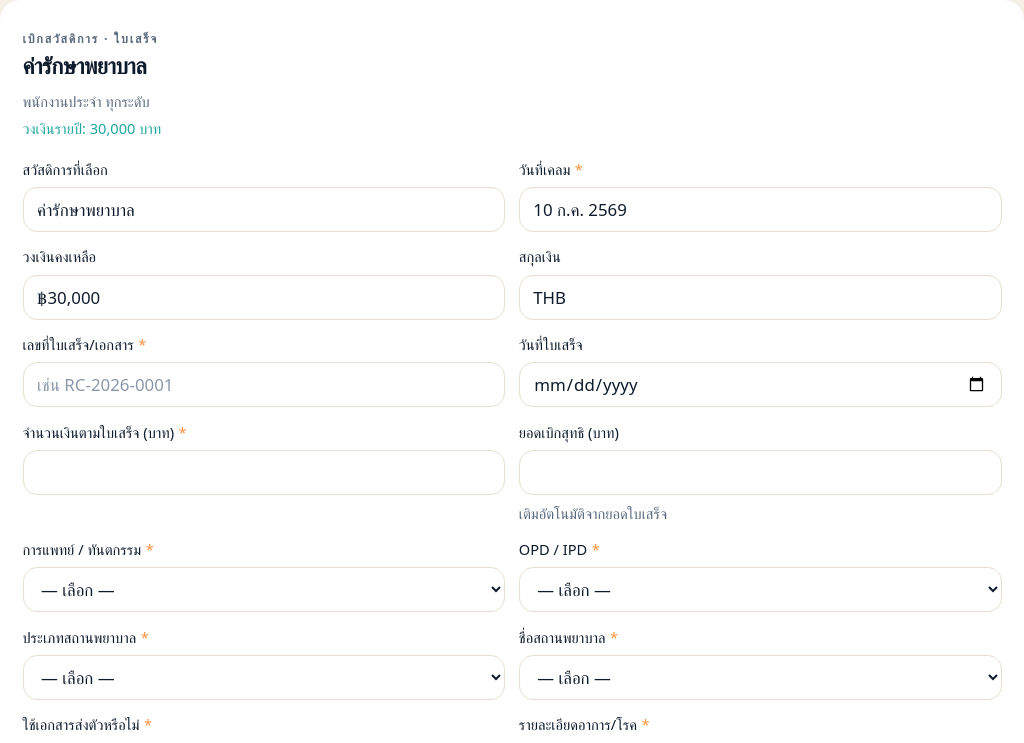
Test: STA-184 — bilingual Hospital Name LOV › reveals the Others free-text field when Hospital Name = others
Expected: the field labelled "ระบุสถานพยาบาลอื่นๆ" is not shown
Select "อื่นๆ / Others" in the dropdown labelled "ชื่อสถานพยาบาล*" at (760, 677), box 519,655 -> 1002,700
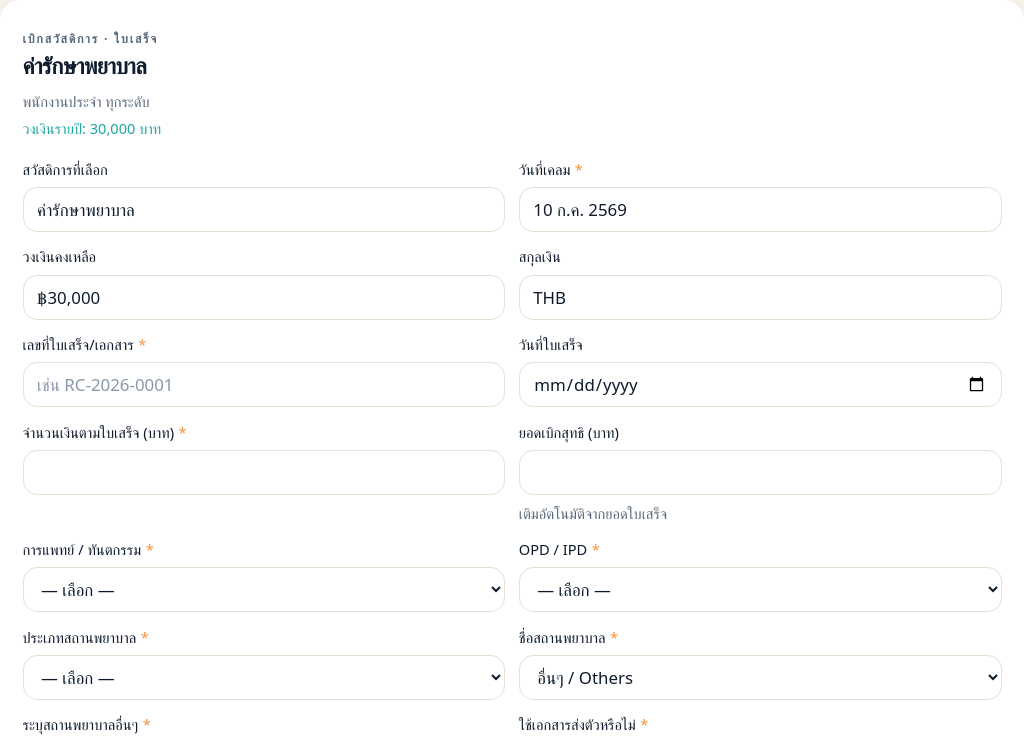
Select "โรงพยาบาลบีเอ็นเอช / BNH Hospital" in the dropdown labelled "ชื่อสถานพยาบาล*" at (760, 677), box 519,655 -> 1002,700
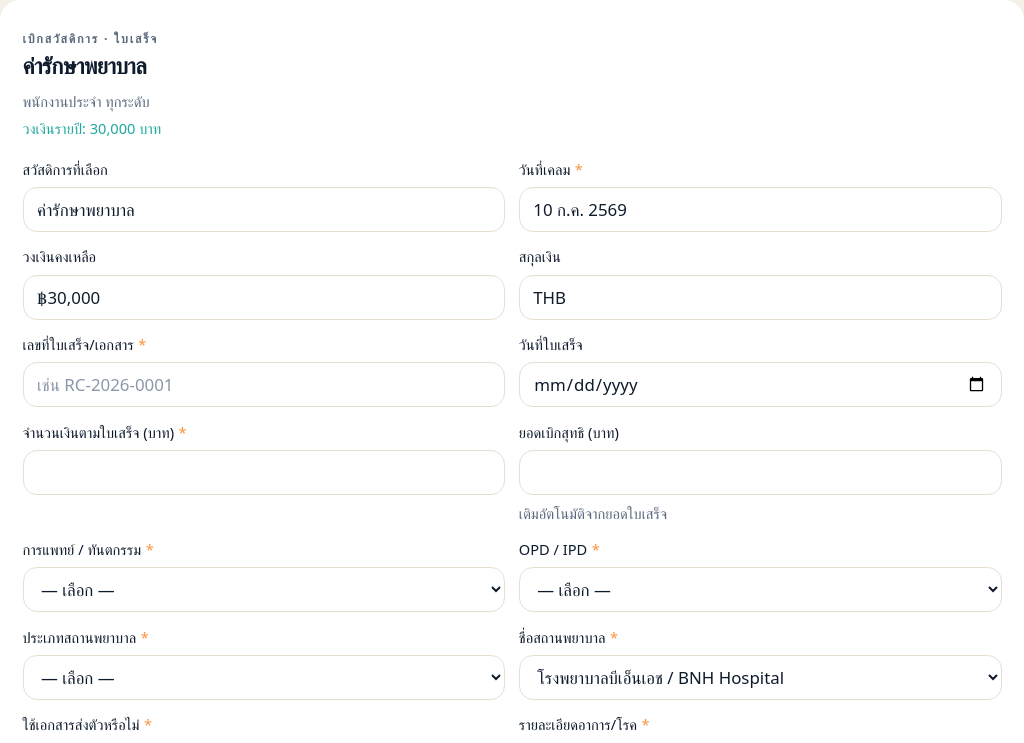
Expected: the label labelled "ระบุสถานพยาบาลอื่นๆ" is gone
